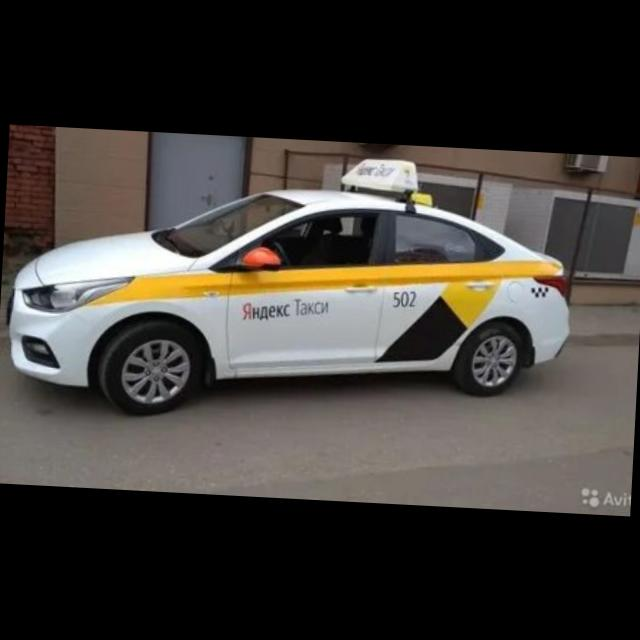taxi: (2, 138, 579, 437)
